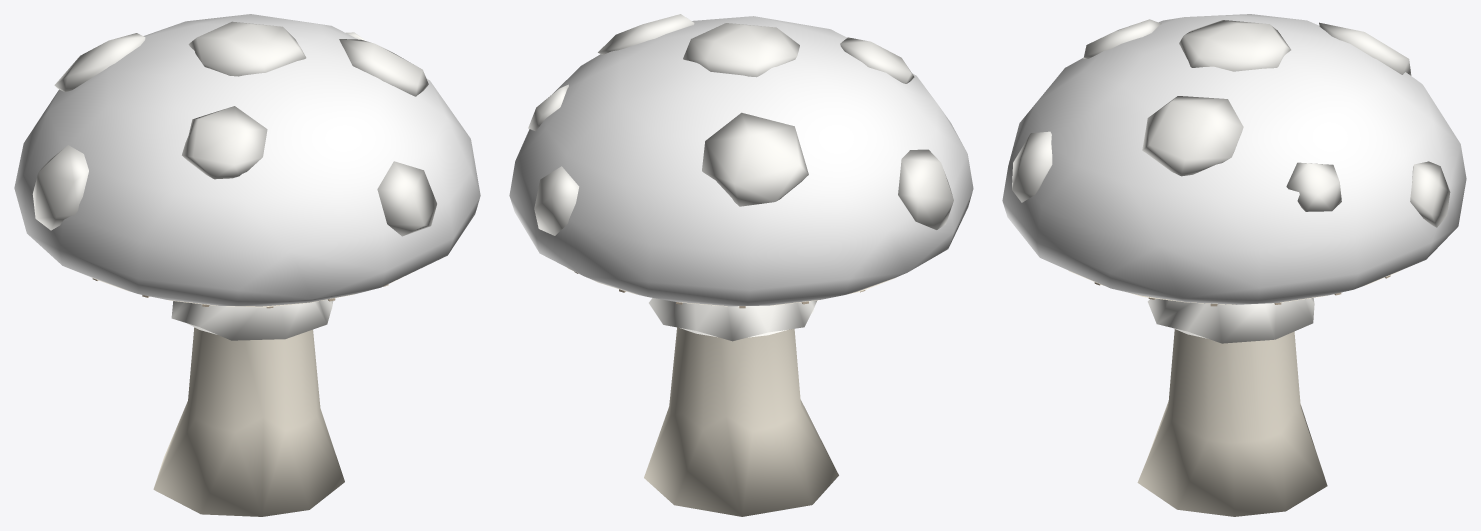
File: mushroom.glb
The picture shows the model from 3 angles, left to right: view 1: azimuth 30°, elevation 25°; view 2: azimuth 150°, elevation 25°; view 3: azimuth 270°, elevation 25°; orthographic projection.
Parts seen in each view (by area): view 1: Pilz; view 2: Pilz; view 3: Pilz.
Boxes of the visible parts, x1=… form: Pilz: x1=14, y1=14, x2=480, y2=516; Pilz: x1=509, y1=14, x2=973, y2=516; Pilz: x1=1002, y1=14, x2=1466, y2=516.
Bounding box in the file's own units: 3.63 × 3.79 × 3.6.
